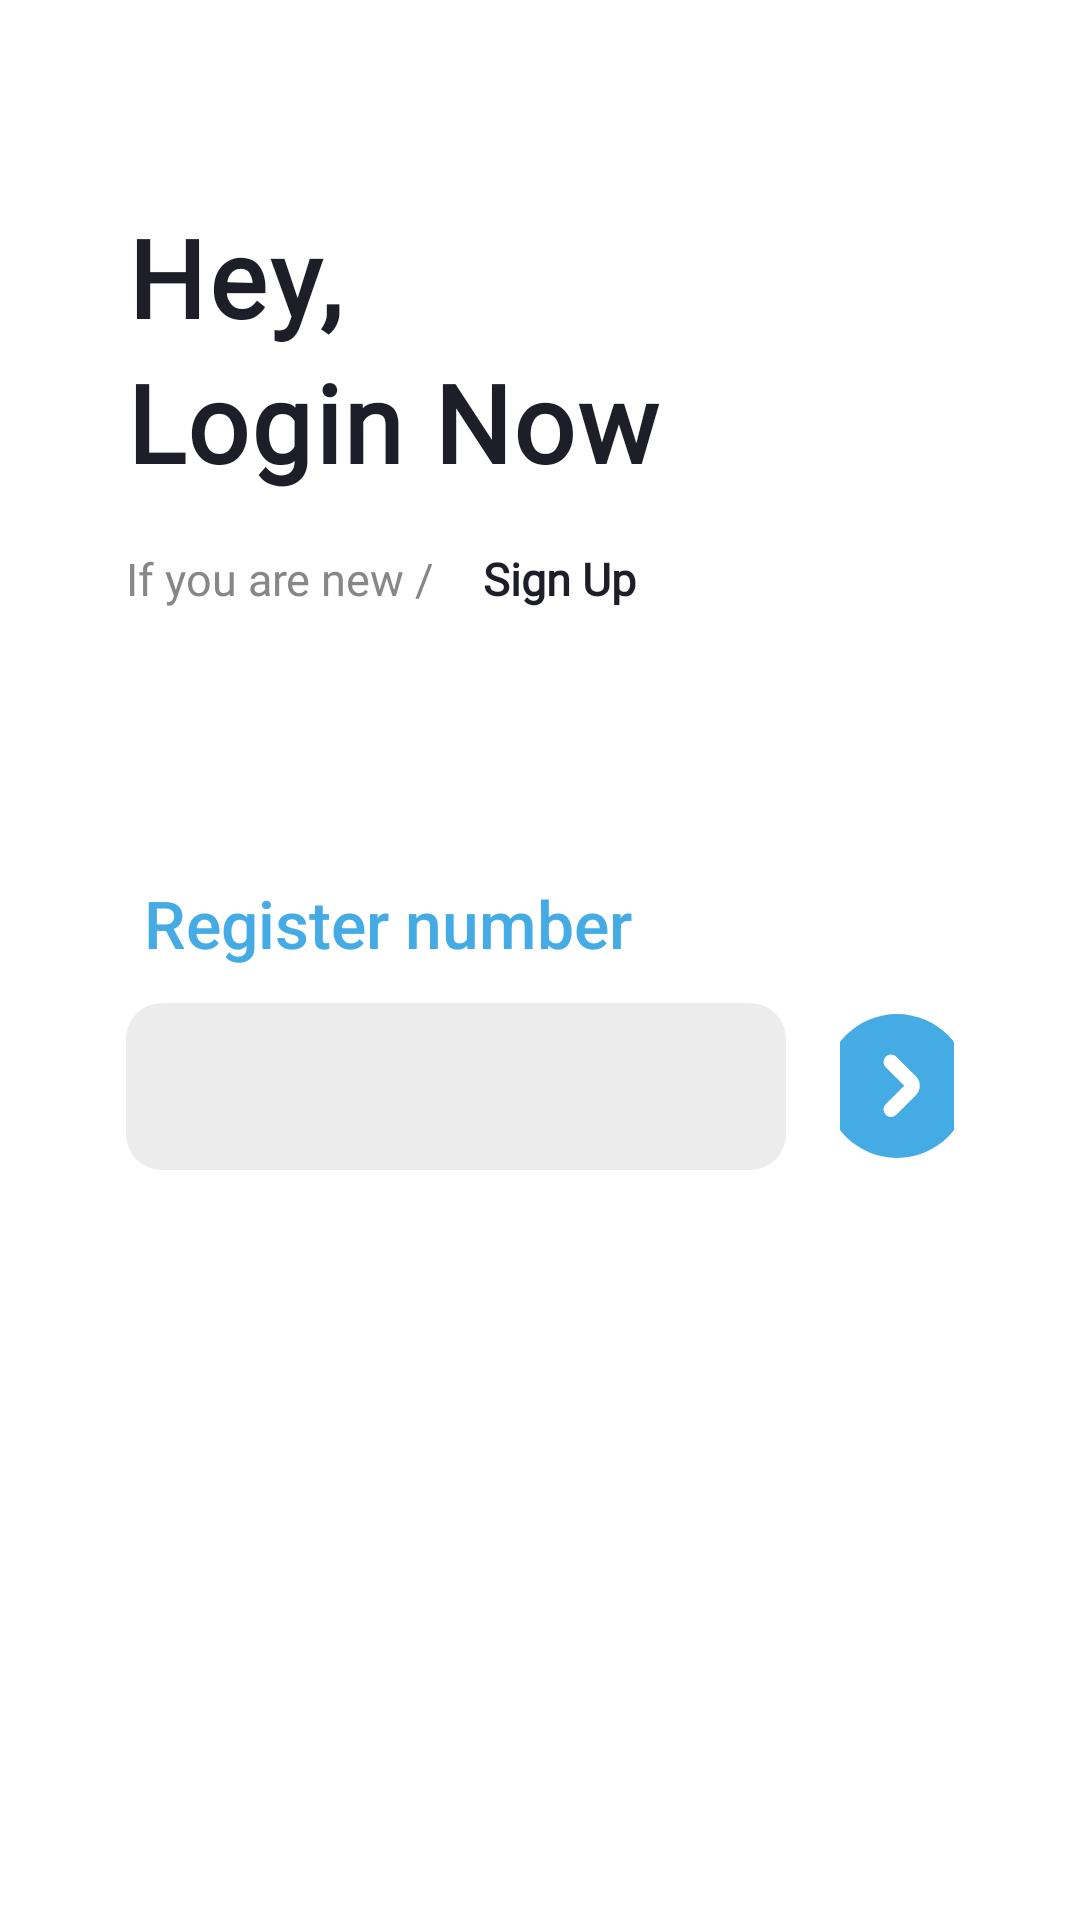

Icon bounding boxes for this 1080x1920 phone screenshot, format Rect(x1, y1, x2, y2):
right arrow: Rect(840, 1014, 954, 1158)
